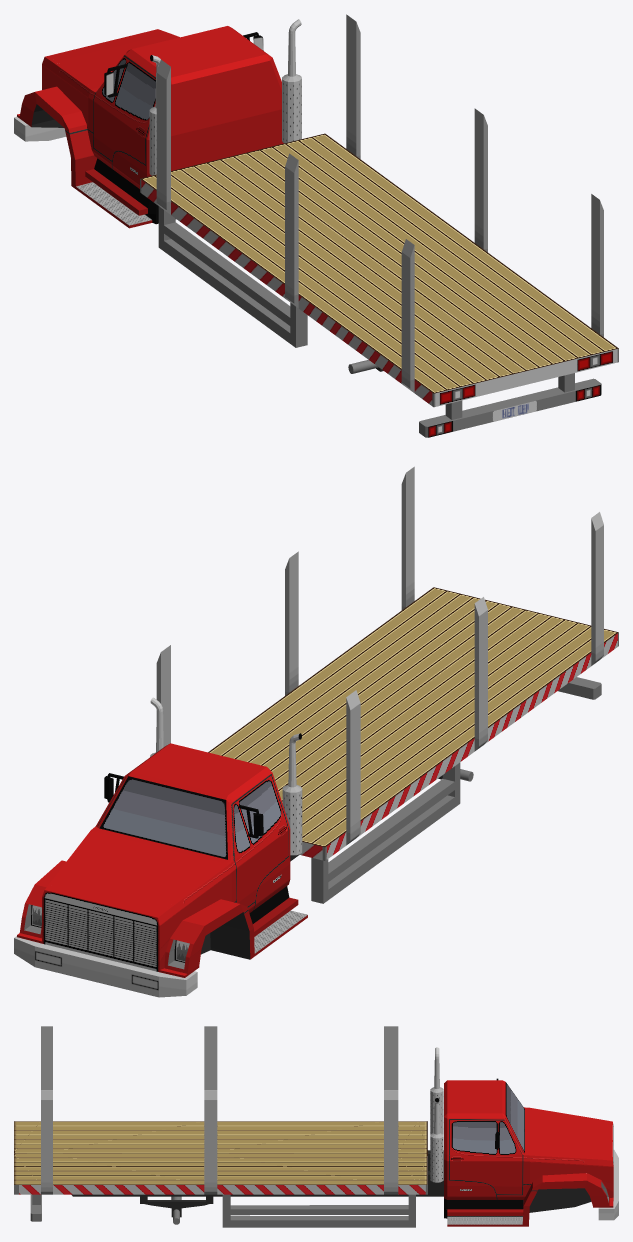
Rendered from 93fl70logcarrier2.fbx.
3 renders of one model, top to bottom at view 1: azimuth 30°, elevation 25°; view 2: azimuth 150°, elevation 25°; view 3: azimuth 270°, elevation 25°, orthographic. The views are drawn at different scales.
Parts seen in each view (by area): view 1: FL70logging2; view 2: FL70logging2; view 3: FL70logging2.
Boxes of the visible parts, x1,y1,x2,y2 form: FL70logging2: (14,14,618,437); FL70logging2: (14,466,618,997); FL70logging2: (14,1026,618,1227).
Bounding box in the file's own units: 2.58 × 2.66 × 9.89.
